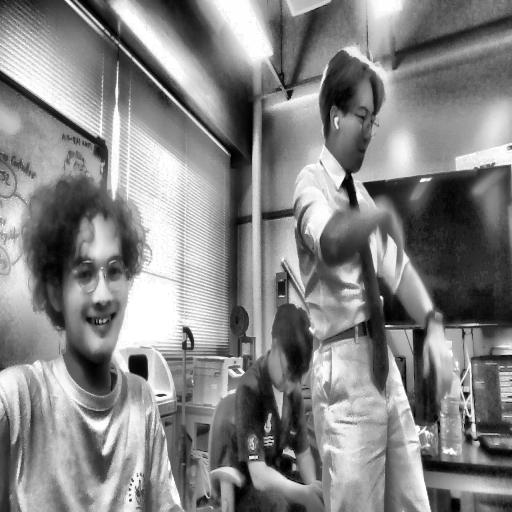Daifuku: (25, 179, 143, 366)
Not Daifuku: (318, 43, 382, 173), (269, 311, 320, 409)
